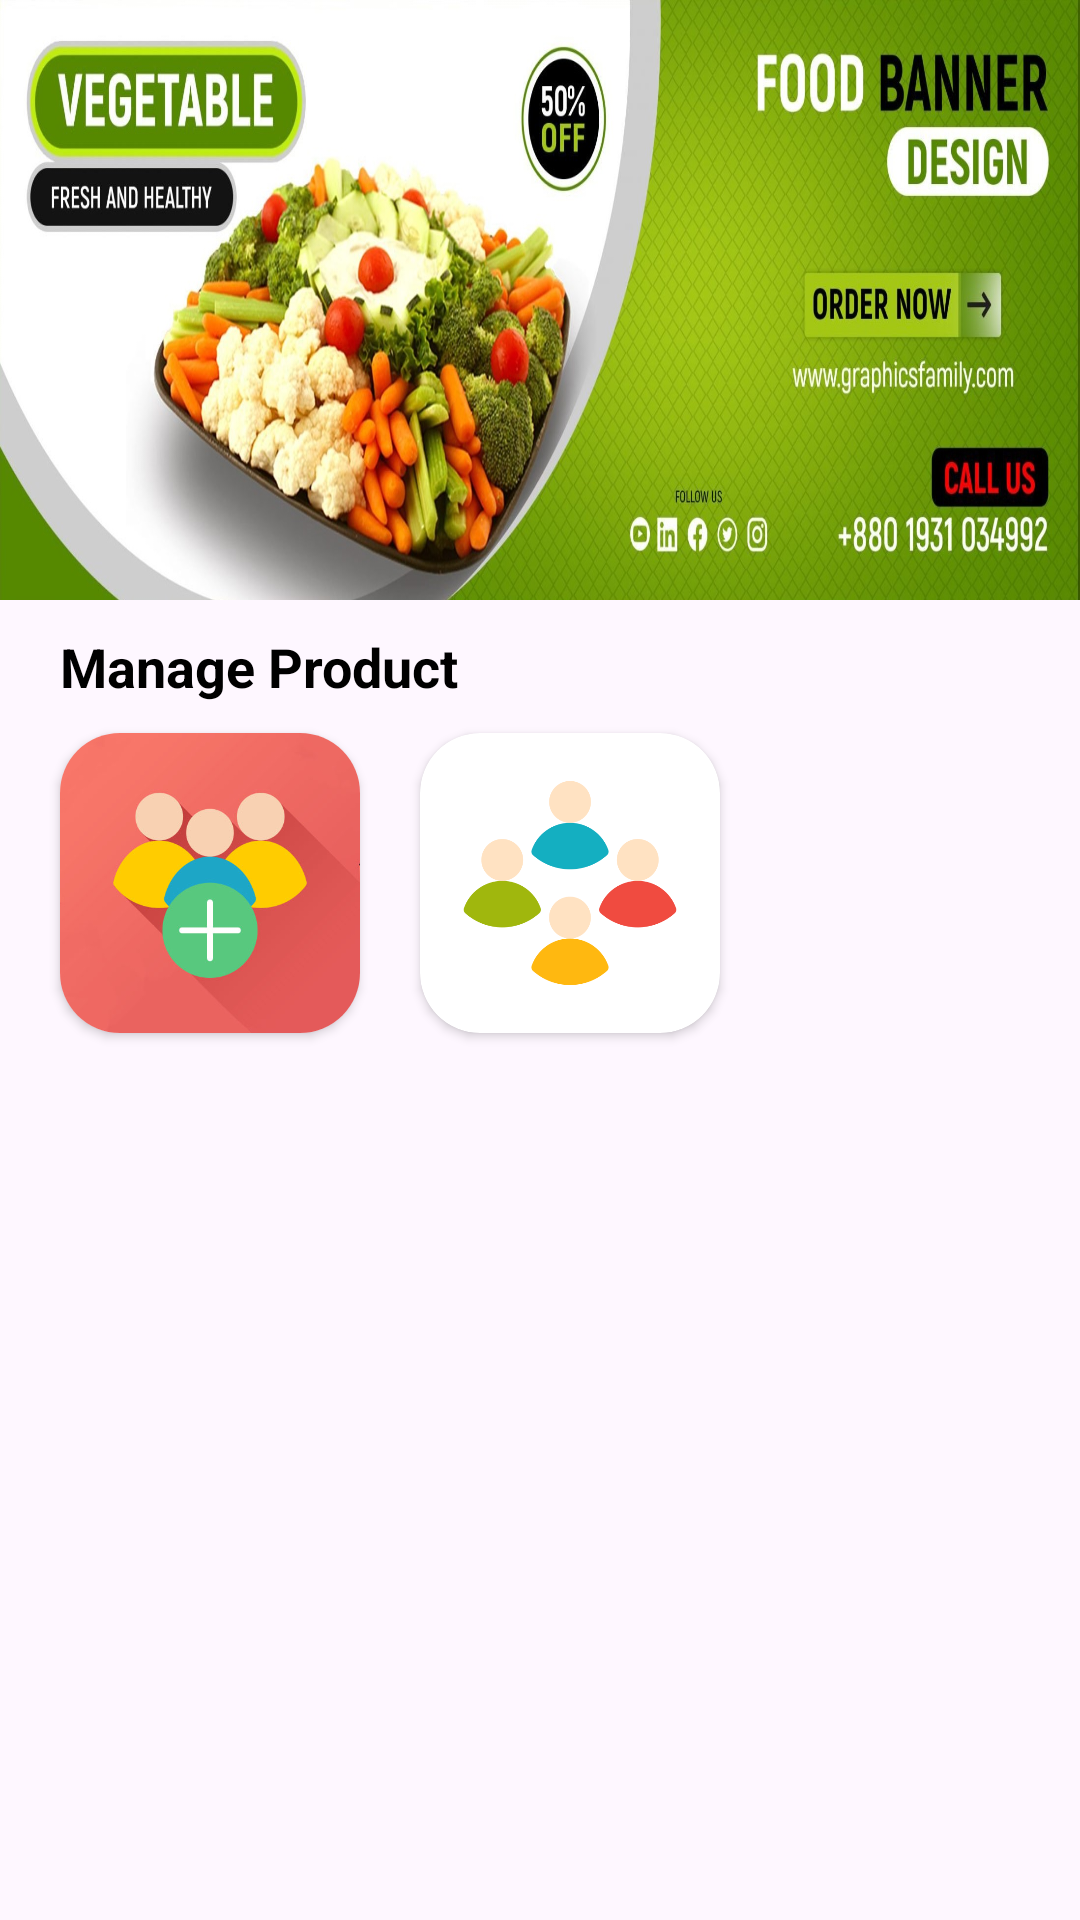

Screen size 1080 x 1920. Icon name, then its center in pixels as [x,y]:
create group: [210,883]
join group: [569,874]
